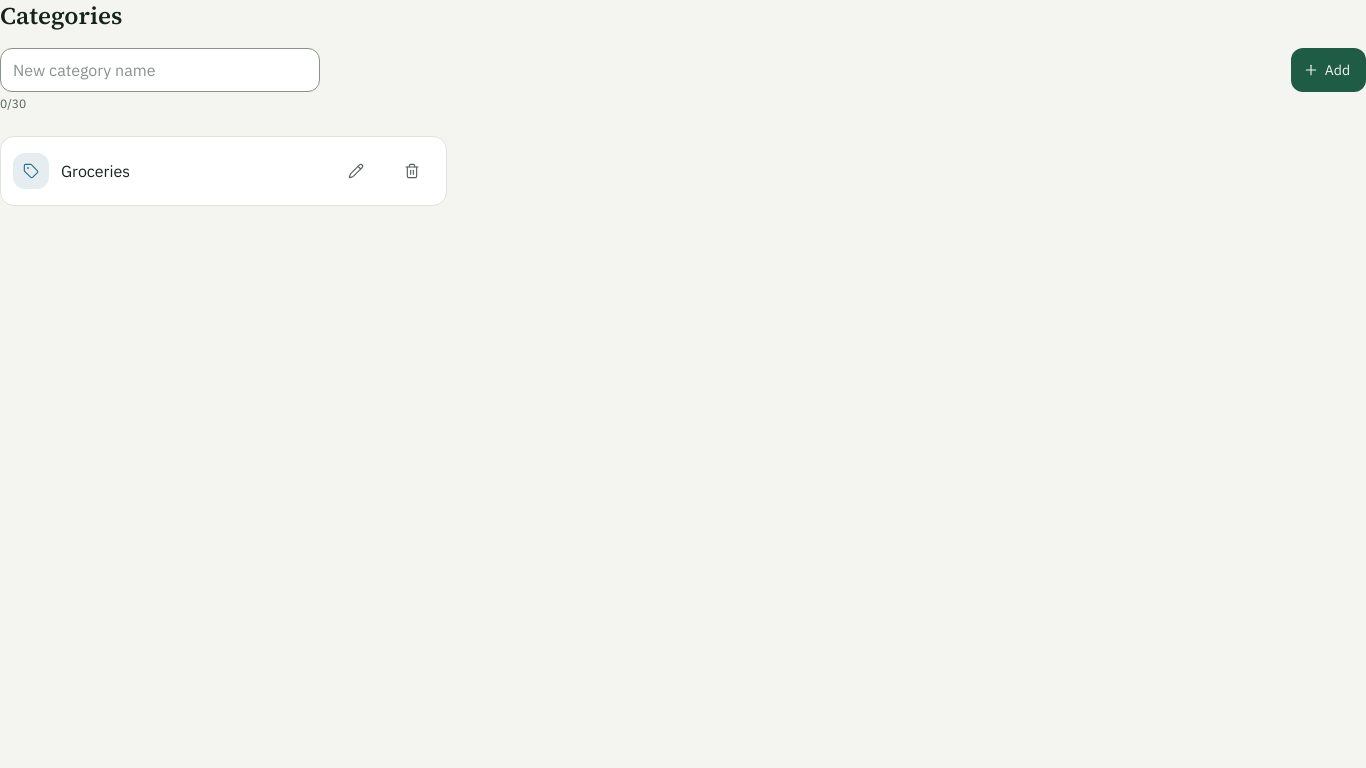
it: CategoriesPage delete confirmation › does not delete when the confirmation is dismissed
This screenshot has width=1366, height=768.
Expected: the text "Groceries" is shown, [61,161,130,181]
Click the button named "Delete" at (412, 171), box [390,149,434,193]
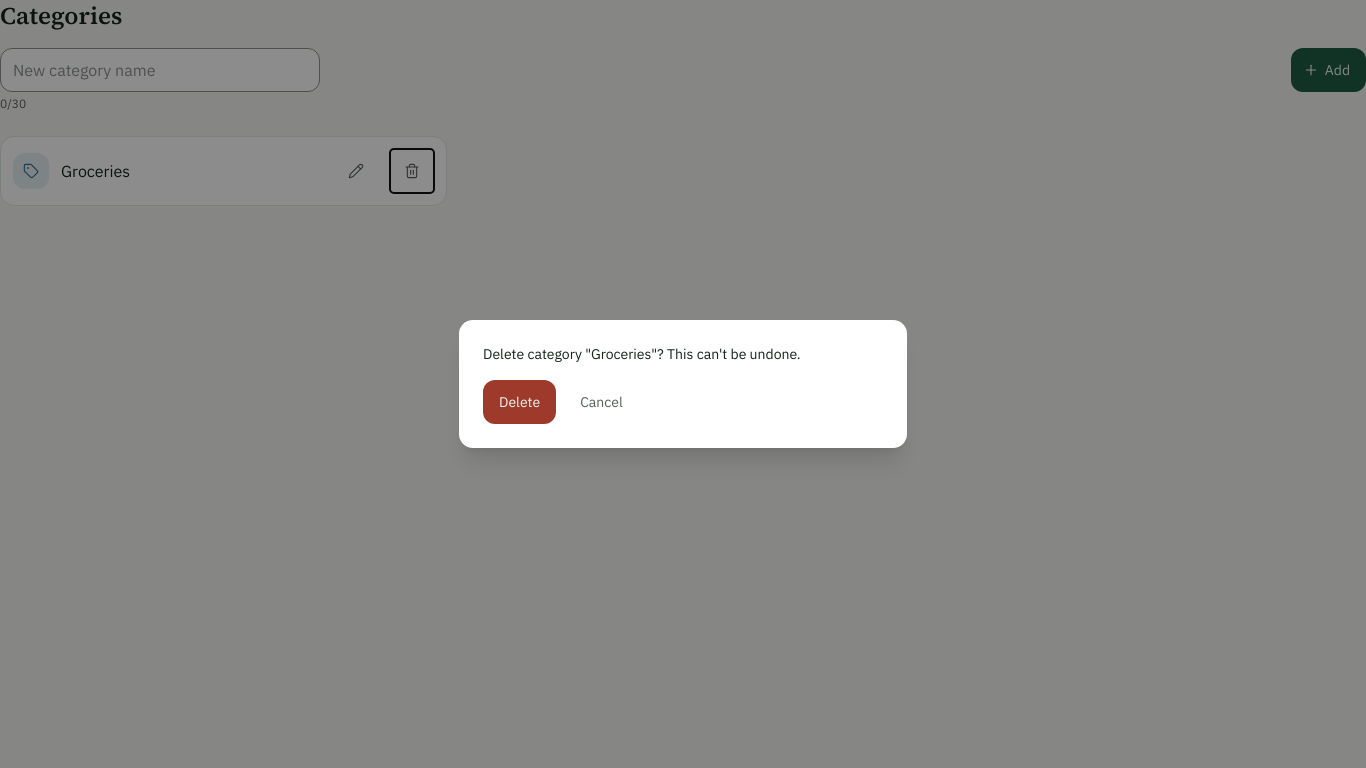
Click the button "Cancel" at (601, 402), box [572,380,631,424]
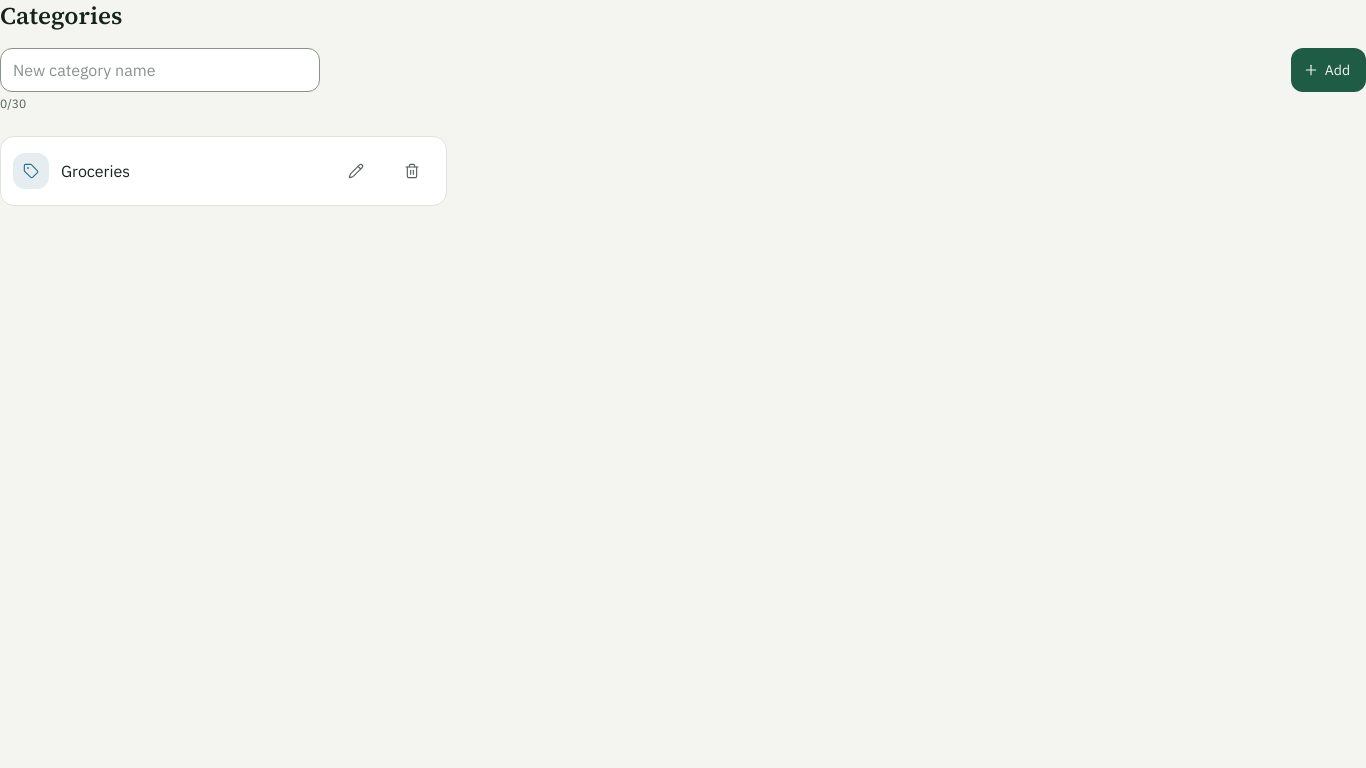
Expected: the text "Groceries" is shown, [61,161,130,181]
Now the text "This can't be undone" is gone
